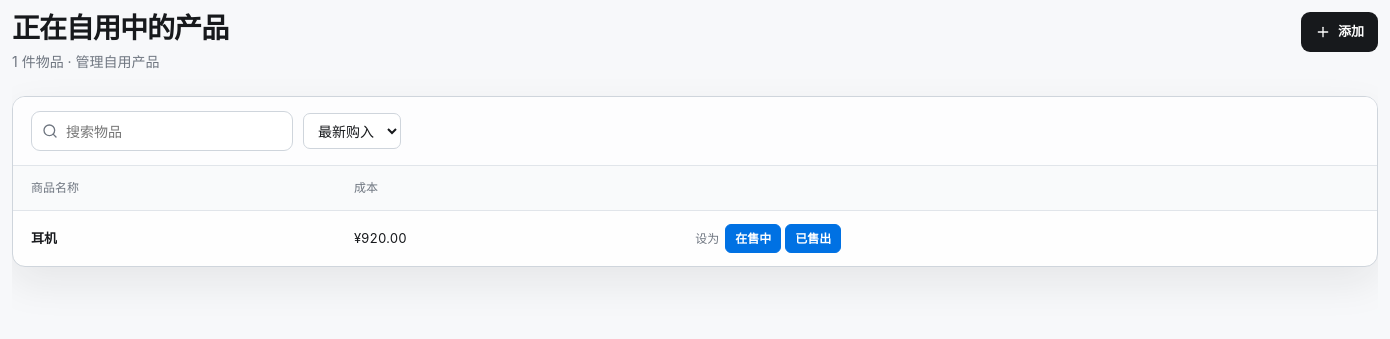
Test: SelfUsePage › shows a network error when marking an item as listed rejects
The image size is (1390, 339).
Step 1. Click the button with aria-label "设置 耳机 为在售中" → (753, 238), box [725,224,781,253]
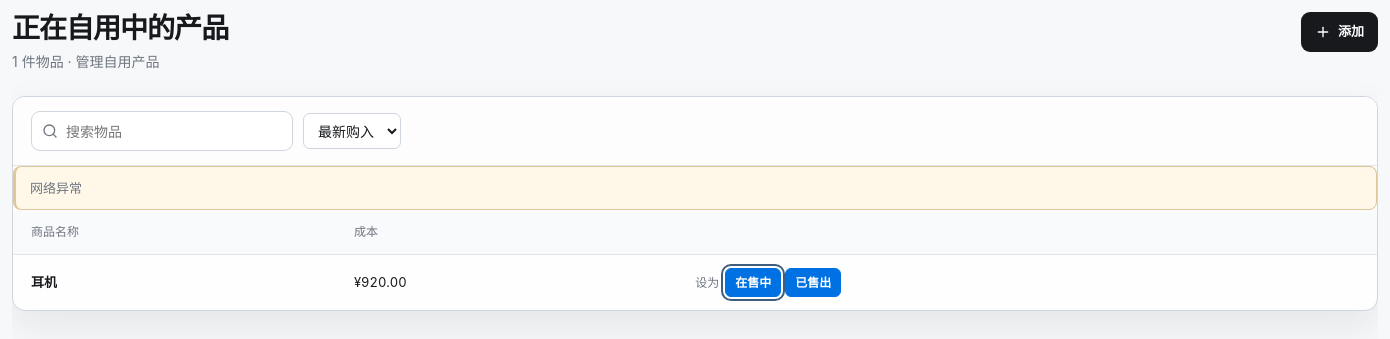
Now the message reads "网络异常", box [30,180,82,196]
